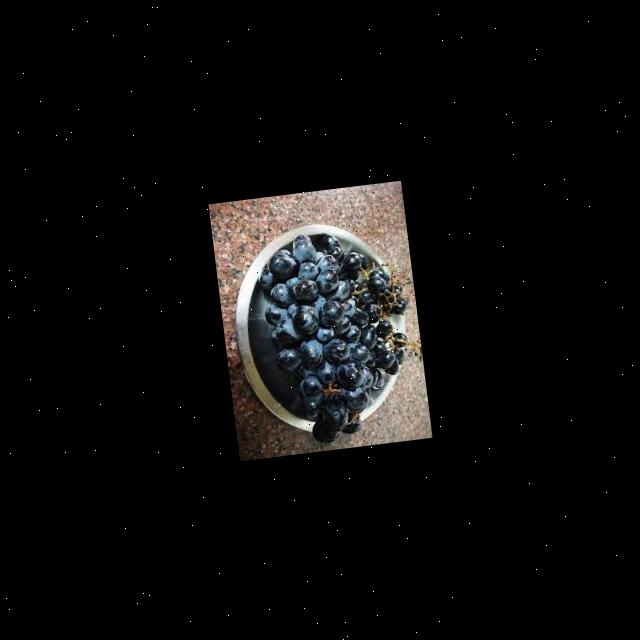grape: (254, 220, 430, 448)
